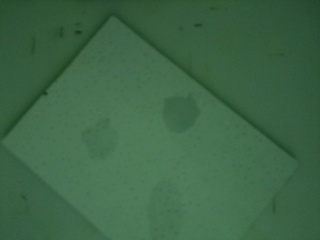Water_detected: (152, 185, 187, 229), (80, 127, 116, 166), (167, 104, 196, 139)
